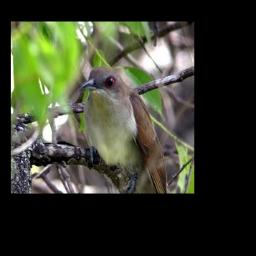Cuckoo: (79, 65, 168, 194)
